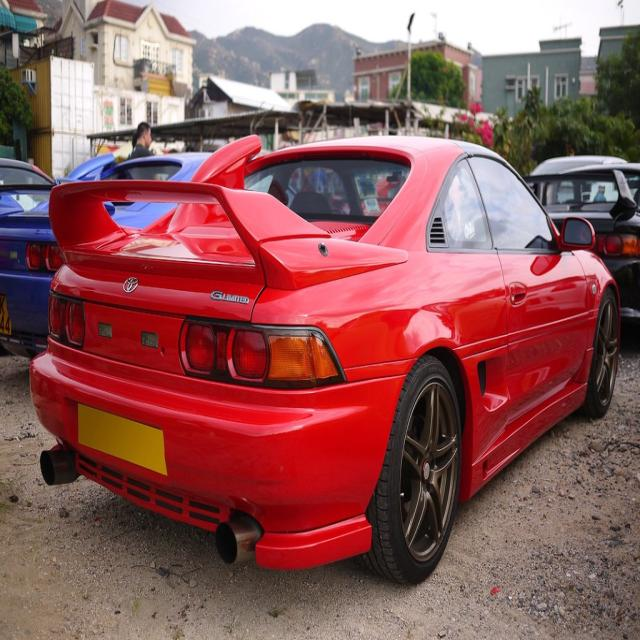car: (27, 128, 619, 587)
